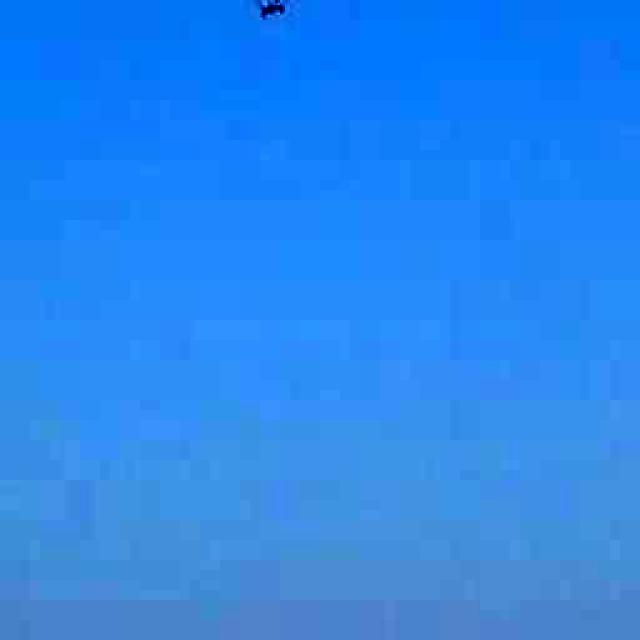bird: (208, 0, 330, 48)
